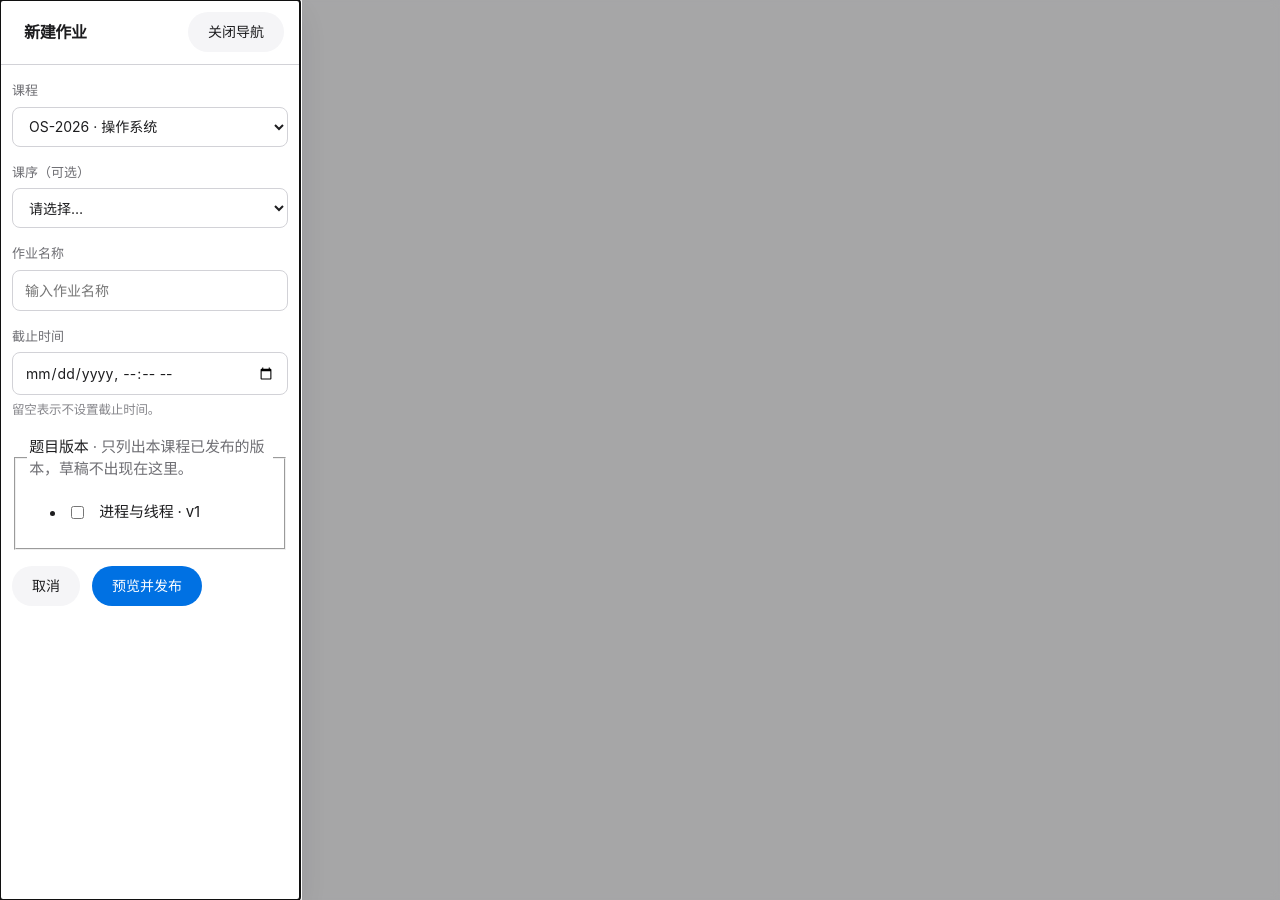
Test: 新建作业（P04） › 标题为空时不发请求，并在表单上给出错误
The image size is (1280, 900).
Check: the list with test id "compose-version-list" is shown, box [71,502,200,521]
Select "01 · 2026F" in the dropdown labelled "课序（可选）" at x=150, y=208, box [12,188,288,228]
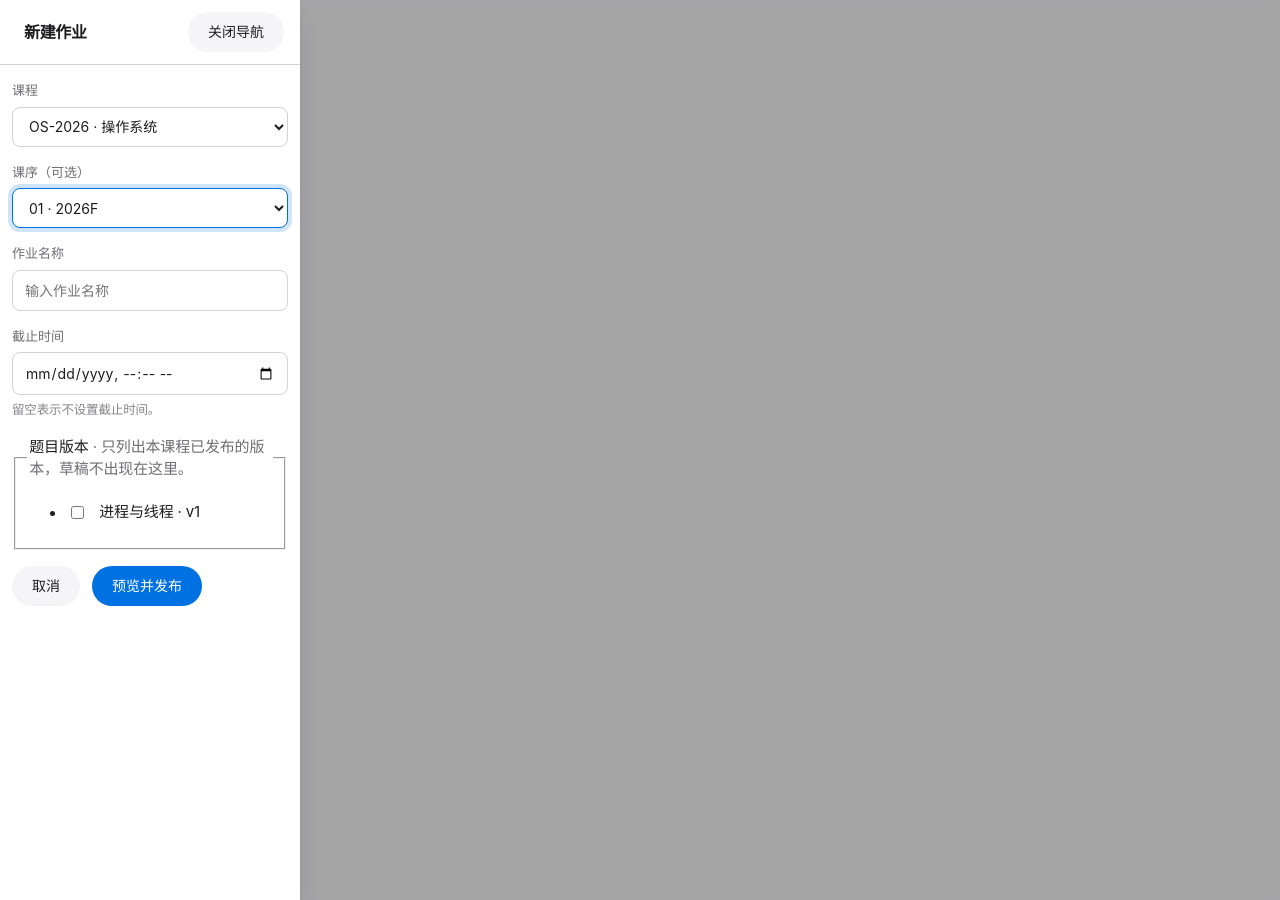
Click the checkbox.
click(78, 512)  # box [71,506,84,519]
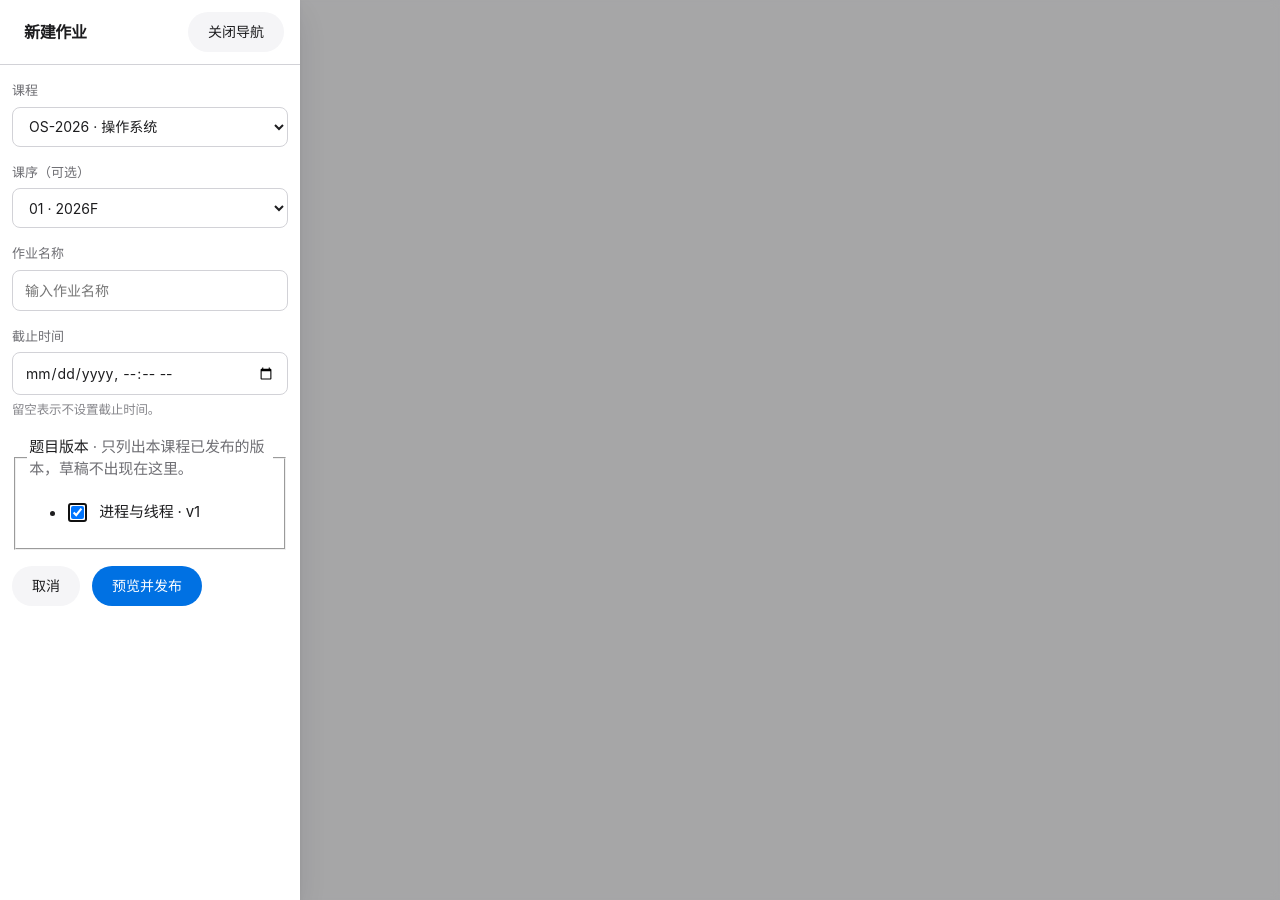
Click the button with test id "assignment-compose-preview".
click(147, 586)  # box [92,566,202,606]
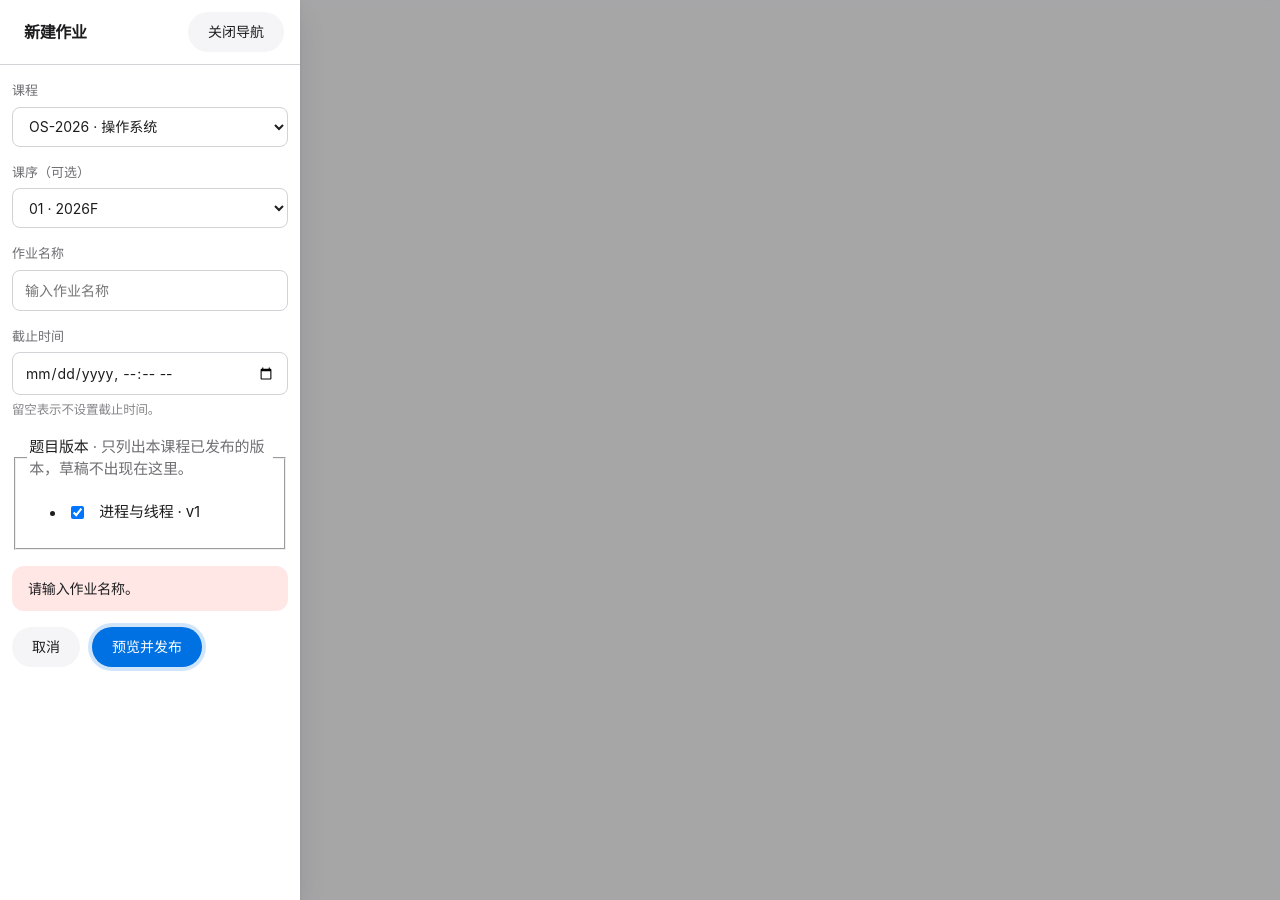
Check: the message with test id "assignment-compose-error" reads "请输入作业名称。", box [28,580,139,597]
